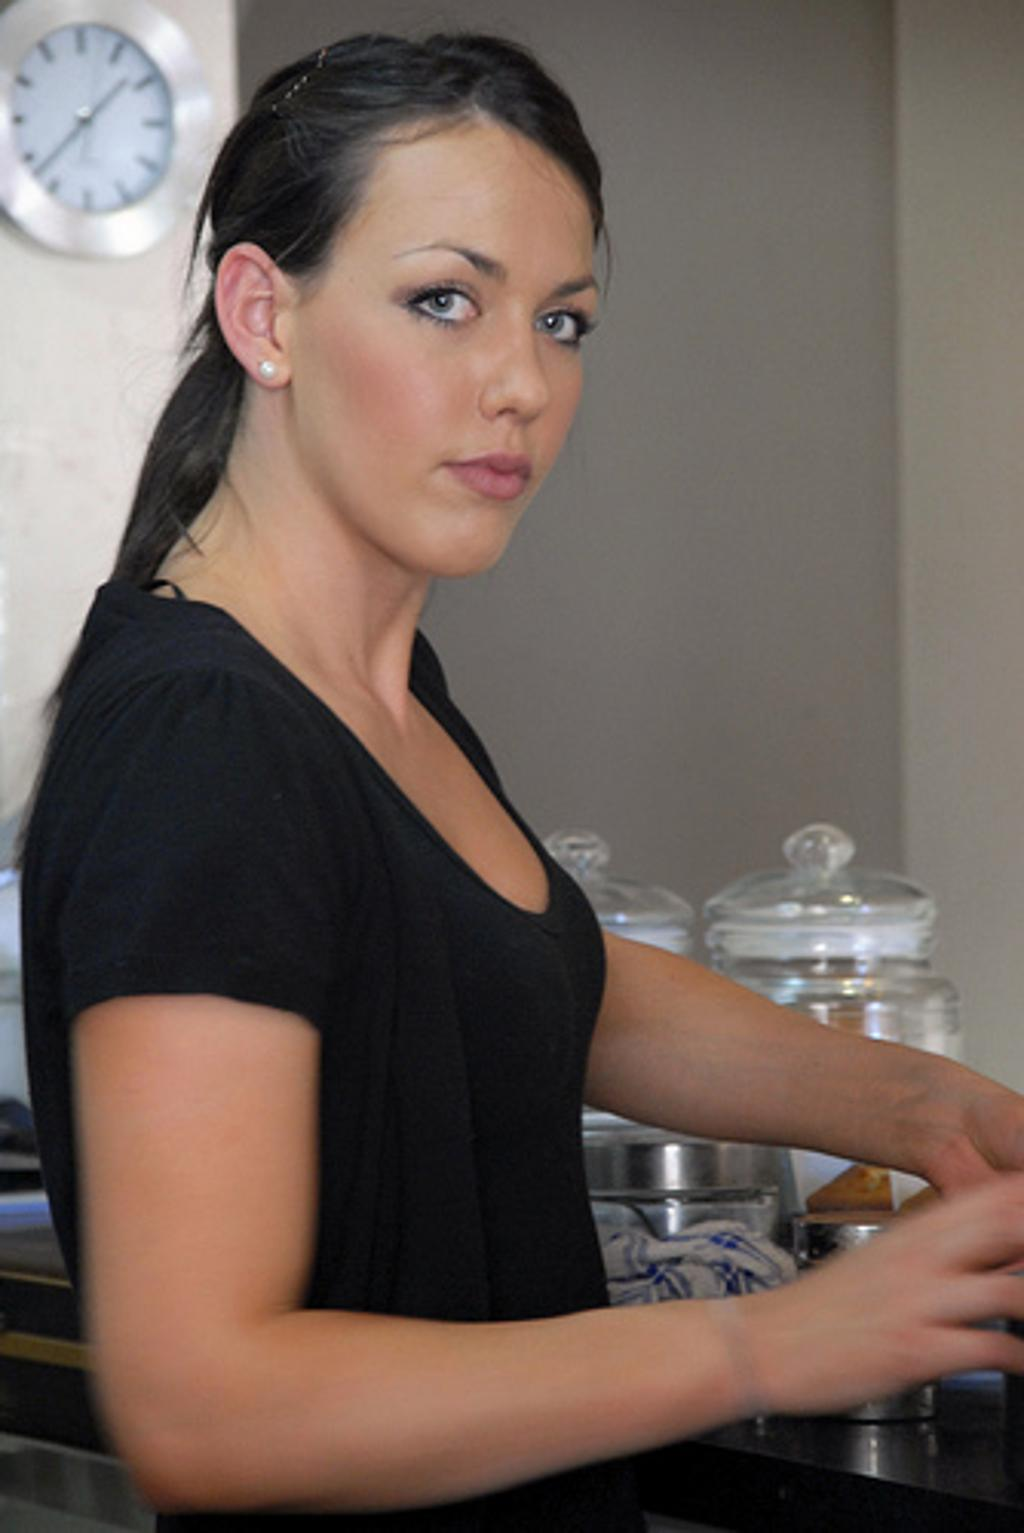face: (305, 117, 601, 569)
